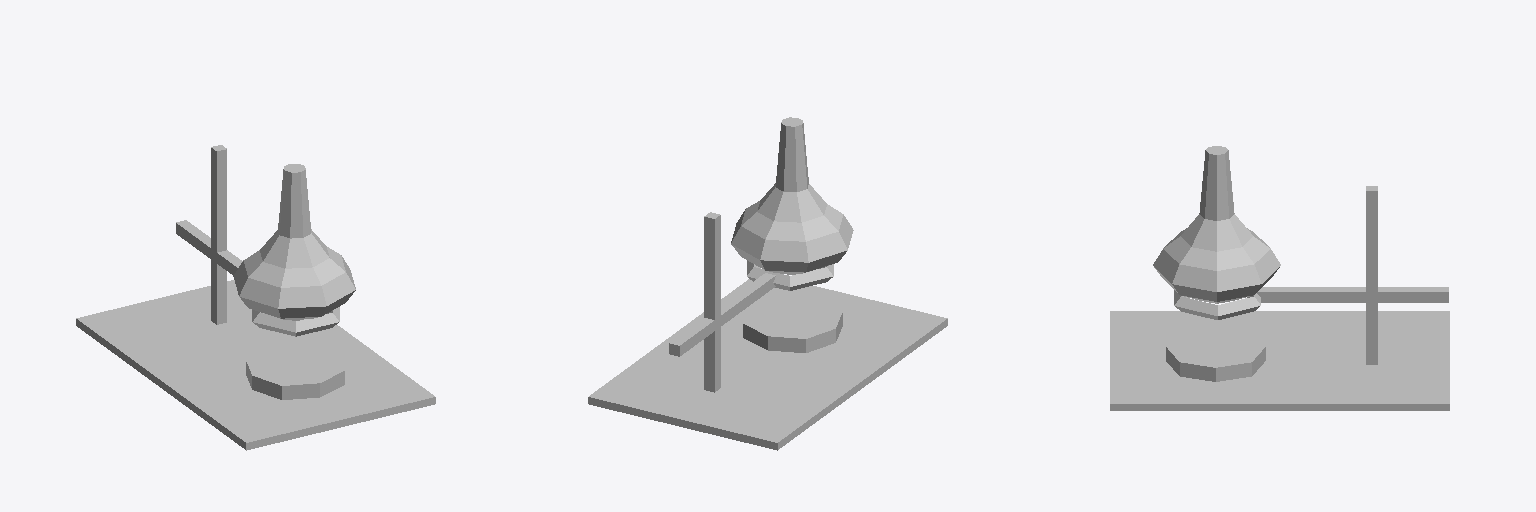
File: Base_Quimica.obj
3 renders of one model, left to right at view 1: azimuth 30°, elevation 25°; view 2: azimuth 150°, elevation 25°; view 3: azimuth 270°, elevation 25°, orthographic.
Visible parts, largest first — view 1: group4 pCube20, group4 pCube18, group4 pCube23, pCube45 group4, group4 pTorus1, group4 pCube22; view 2: group4 pCube20, group4 pCube18, group4 pCube23, pCube45 group4, group4 pCube22, group4 pTorus1; view 3: group4 pCube20, group4 pCube18, group4 pCube23, group4 pCube22, pCube45 group4, group4 pTorus1.
Boxes of the visible parts, x1=… form: group4 pCube20: x1=76, y1=280, x2=435, y2=450; group4 pCube18: x1=233, y1=164, x2=355, y2=320; group4 pCube23: x1=246, y1=344, x2=344, y2=399; pCube45 group4: x1=211, y1=145, x2=226, y2=324; group4 pTorus1: x1=252, y1=307, x2=339, y2=336; group4 pCube22: x1=176, y1=220, x2=242, y2=275; group4 pCube20: x1=588, y1=279, x2=947, y2=450; group4 pCube18: x1=731, y1=117, x2=853, y2=274; group4 pCube23: x1=743, y1=297, x2=842, y2=352; pCube45 group4: x1=704, y1=212, x2=720, y2=392; group4 pCube22: x1=669, y1=273, x2=775, y2=356; group4 pTorus1: x1=747, y1=260, x2=833, y2=290; group4 pCube20: x1=1110, y1=311, x2=1449, y2=410; group4 pCube18: x1=1153, y1=146, x2=1280, y2=303; group4 pCube23: x1=1166, y1=326, x2=1265, y2=381; group4 pCube22: x1=1257, y1=287, x2=1448, y2=302; pCube45 group4: x1=1366, y1=186, x2=1377, y2=364; group4 pTorus1: x1=1174, y1=290, x2=1260, y2=319.
Size of the model in its own units: 73.15 by 80.52 by 114.